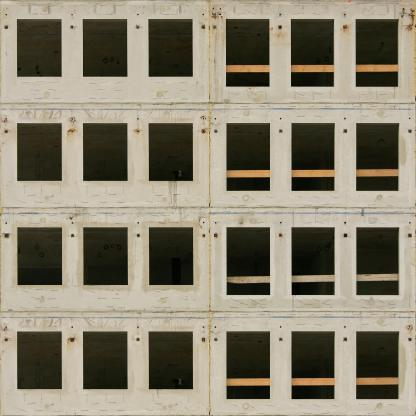Building Outline: (0, 0, 416, 416)
Facade: (0, 0, 416, 416)
Floor: (0, 103, 416, 202), (0, 312, 416, 410), (0, 208, 416, 306), (0, 0, 416, 97)
Floor Slab: (0, 410, 416, 416), (0, 98, 416, 104), (0, 202, 416, 208), (0, 306, 416, 312)
Window: (356, 227, 400, 295), (226, 227, 270, 295), (291, 227, 335, 295), (356, 332, 400, 399), (226, 332, 270, 399), (291, 332, 335, 399), (291, 123, 335, 190), (356, 19, 399, 87), (226, 19, 269, 87), (291, 19, 334, 87), (356, 123, 399, 190), (226, 123, 269, 190), (148, 19, 193, 77), (17, 227, 62, 285), (83, 227, 128, 285), (17, 332, 62, 389), (83, 332, 128, 389), (148, 123, 193, 180), (17, 19, 61, 77), (83, 19, 127, 77), (149, 227, 193, 285), (149, 332, 193, 389), (17, 123, 61, 180), (83, 123, 127, 180)
